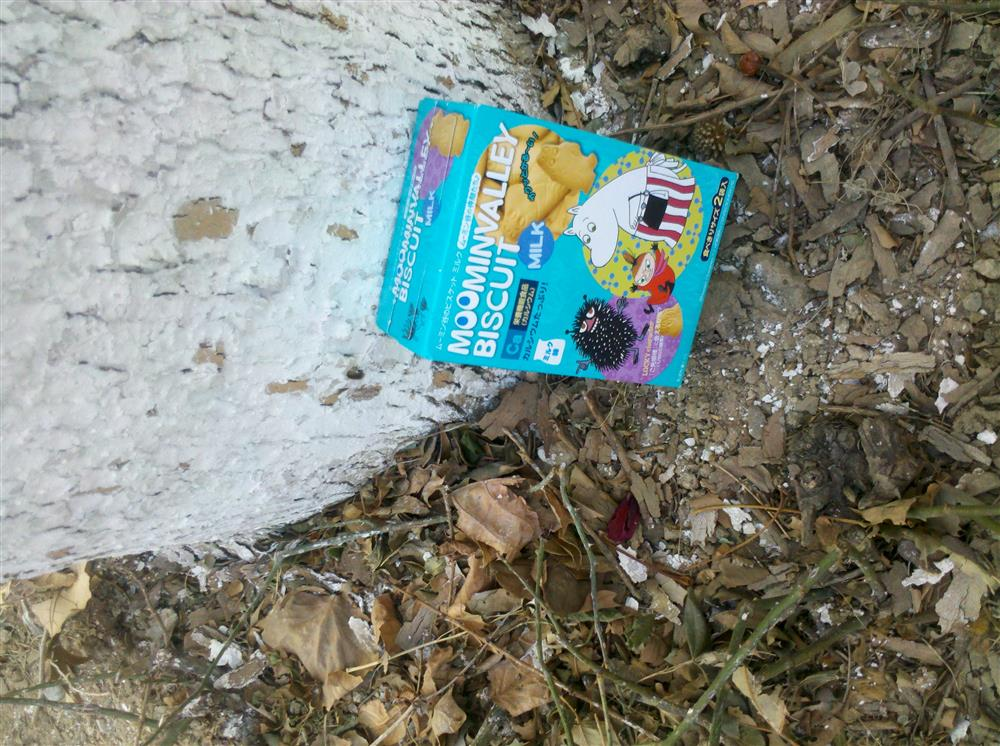Moominvalley_Biscuit: (365, 95, 736, 393)
